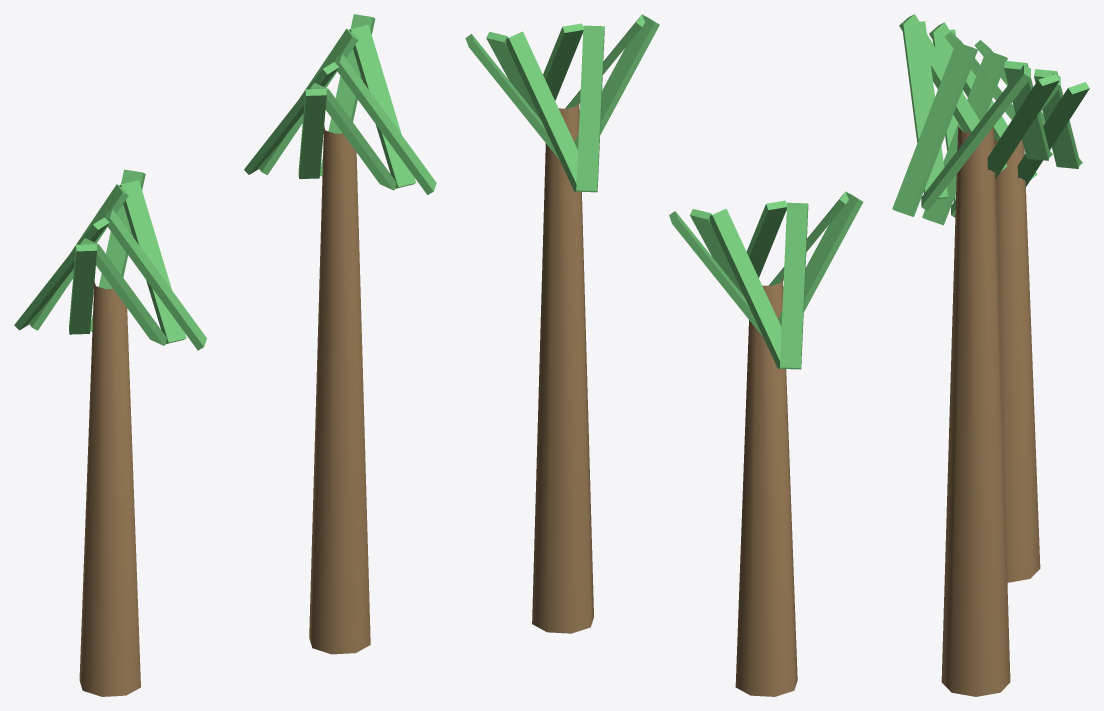
File: palms.glb
3 views of the same model, side by side, from view 1: azimuth 30°, elevation 25°; view 2: azimuth 150°, elevation 25°; view 3: azimuth 270°, elevation 25° (orthographic). The views are drawn at different scales.
Parts seen in each view (by area): view 1: palms; view 2: palms; view 3: palms.
Boxes of the visible parts, bbox=[...] form: palms: bbox=[14, 14, 436, 696]; palms: bbox=[465, 14, 863, 696]; palms: bbox=[892, 14, 1089, 696].
Bounding box in the file's own units: 2.89 × 4.69 × 1.32.
